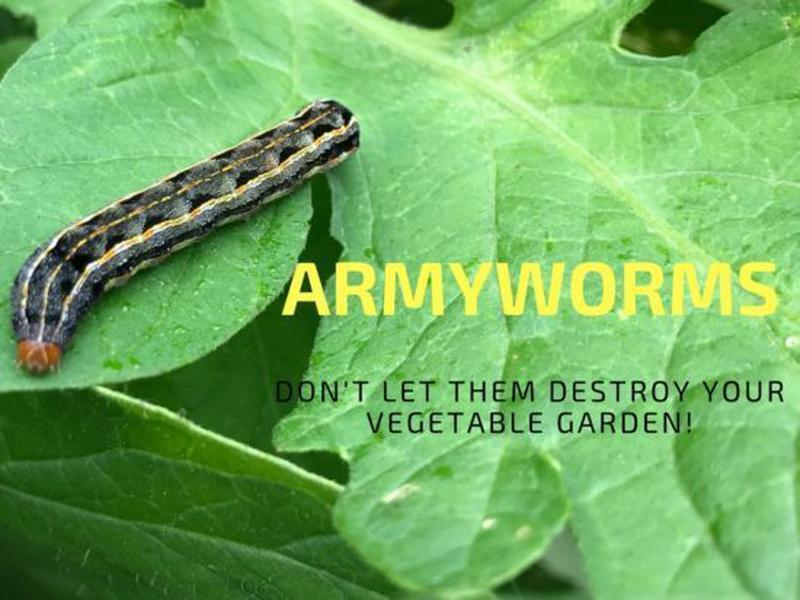Armyworms: (7, 103, 370, 379)
